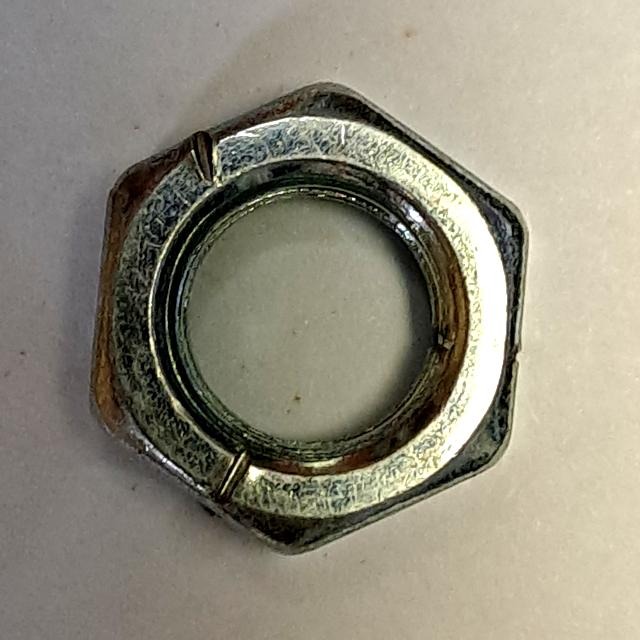Scratches: (75, 71, 543, 572)
